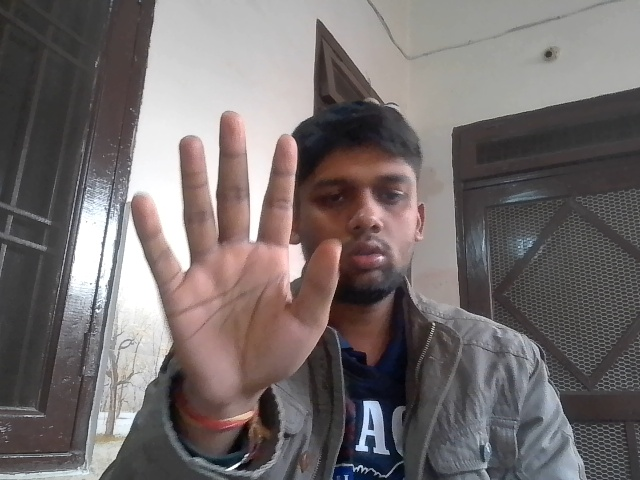Hello: (116, 107, 345, 422)
